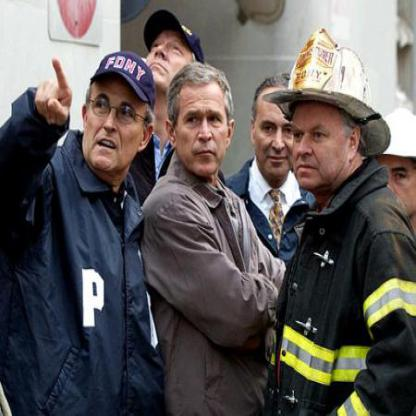face: (85, 55, 149, 177), (286, 84, 351, 195), (175, 70, 232, 177), (142, 17, 197, 100), (256, 82, 303, 179)
